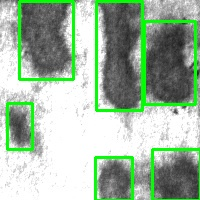patches: (96, 1, 142, 110), (144, 21, 195, 104), (19, 1, 73, 79), (152, 149, 200, 200), (95, 157, 132, 200), (7, 103, 32, 149)
